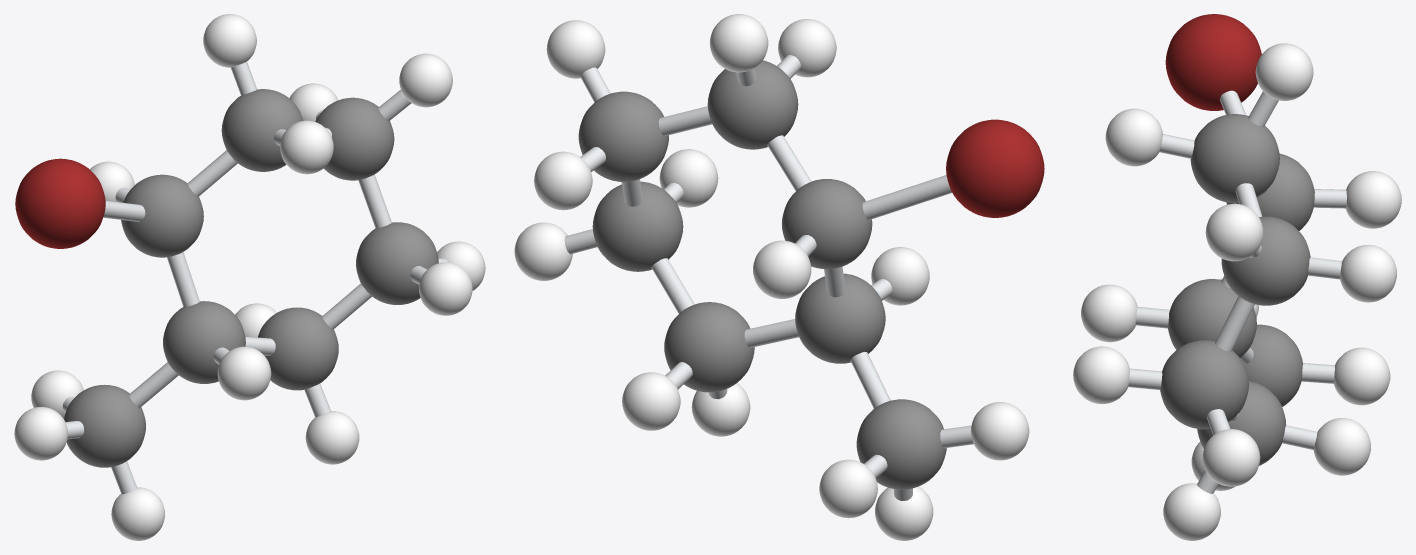
The model's file is 1-bromo-2-metilciclohexano.glb.glb.
3 renders of one model, left to right at view 1: azimuth 30°, elevation 25°; view 2: azimuth 150°, elevation 25°; view 3: azimuth 270°, elevation 25°, orthographic. The views are drawn at different scales.
Visible parts, largest first — view 1: instanced (×2); view 2: instanced (×2); view 3: instanced (×2).
Boxes of the visible parts, x1,y1,x2,y2 form: instanced (×2): (14,14,485,540); instanced (×2): (514,14,1044,540); instanced (×2): (1073,14,1401,540).
Size of the model in its own units: 0.062 by 0.0595 by 0.035.
